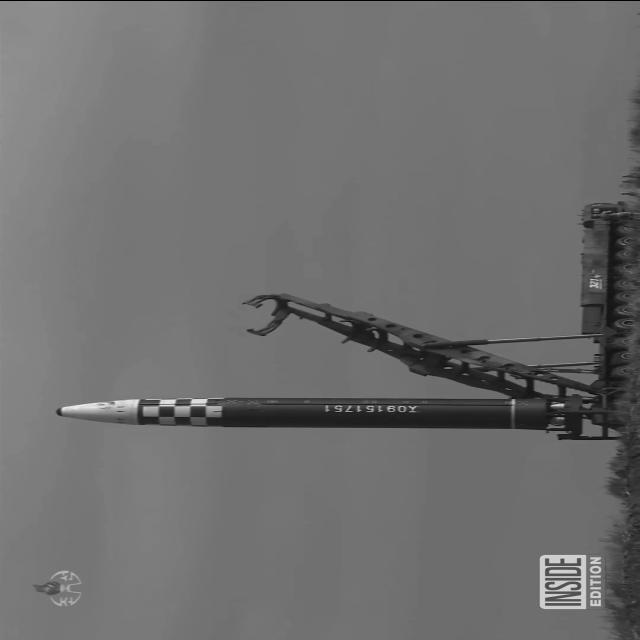Missile: (41, 390, 586, 433)
